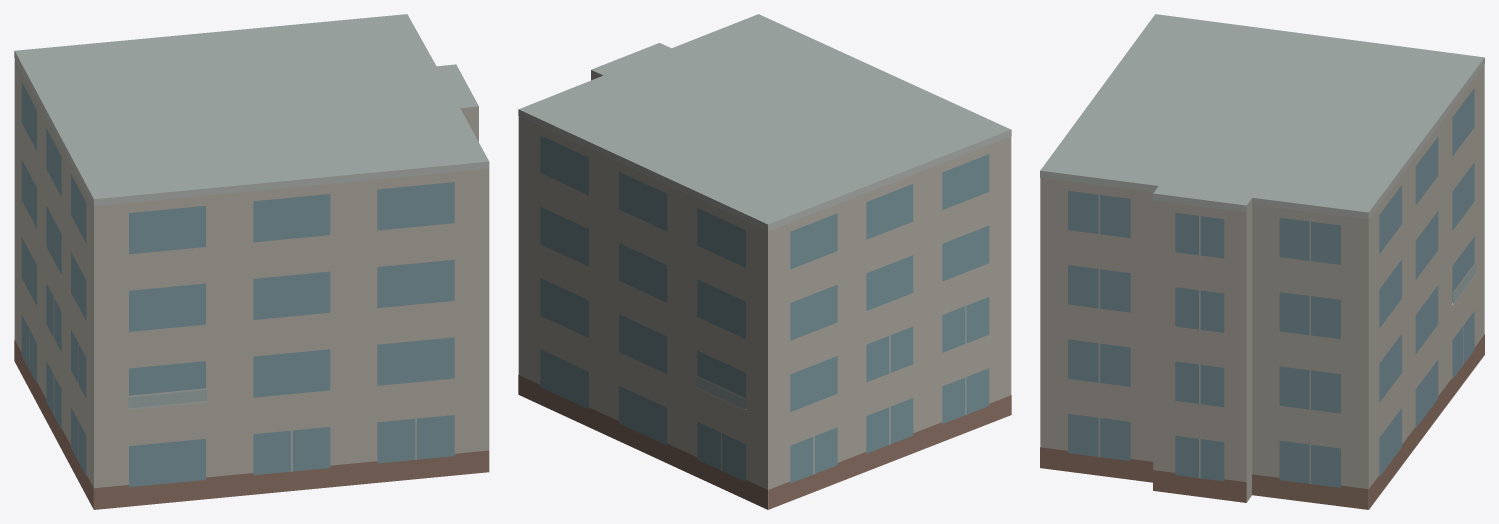
Rendered from survey-upis-32870038.glb.
The picture shows the model from 3 angles, left to right: view 1: azimuth 30°, elevation 25°; view 2: azimuth 150°, elevation 25°; view 3: azimuth 270°, elevation 25°; orthographic projection. The views are drawn at different scales.
Parts seen in each view (by area): view 1: survey-upis-32870038.tmp; view 2: survey-upis-32870038.tmp; view 3: survey-upis-32870038.tmp.
Part boxes in pixels (x1,y1,x2,y2): survey-upis-32870038.tmp: (14,14,489,509); survey-upis-32870038.tmp: (518,14,1011,509); survey-upis-32870038.tmp: (1040,14,1484,509).
Bounding box in the file's own units: 14.9 × 10.4 × 14.1.
